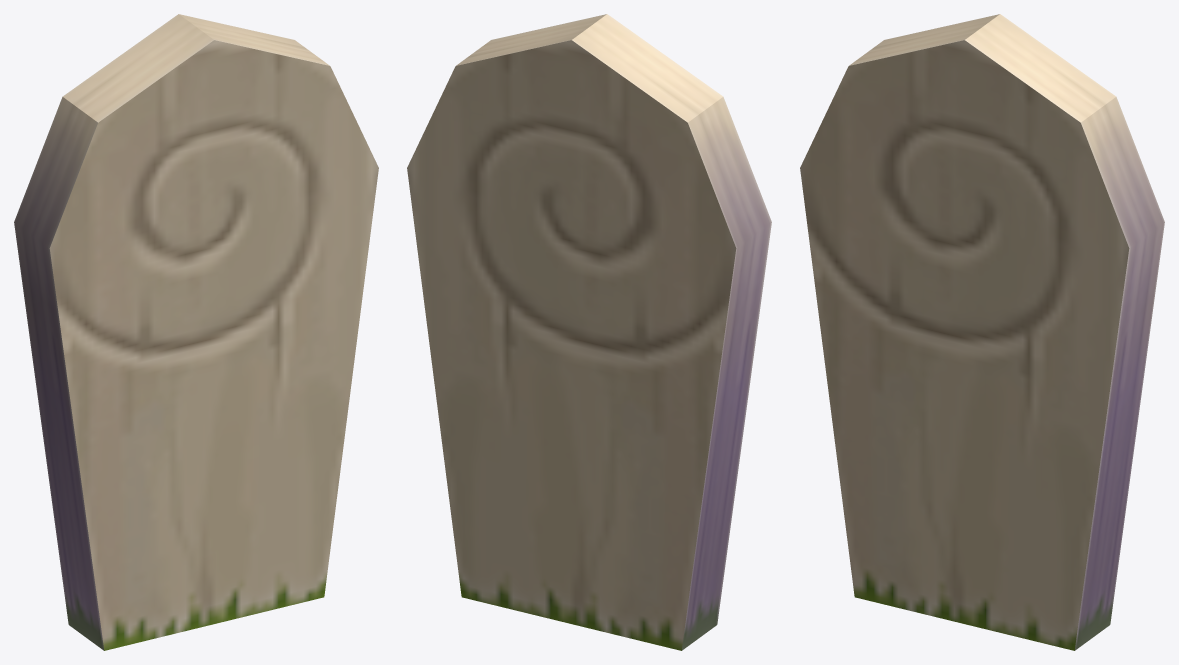
The model's file is scenes_construction_fence03a.FBX.
3 renders of one model, left to right at view 1: azimuth 30°, elevation 25°; view 2: azimuth 150°, elevation 25°; view 3: azimuth 330°, elevation 25°, orthographic.
Parts seen in each view (by area): view 1: scenes_construction_fence03a; view 2: scenes_construction_fence03a; view 3: scenes_construction_fence03a.
Part boxes in pixels (<box>): scenes_construction_fence03a: <box>14,14,378,650</box>; scenes_construction_fence03a: <box>407,14,771,650</box>; scenes_construction_fence03a: <box>800,14,1164,650</box>.
Bounding box in the file's own units: 188 × 318 × 35.23.
